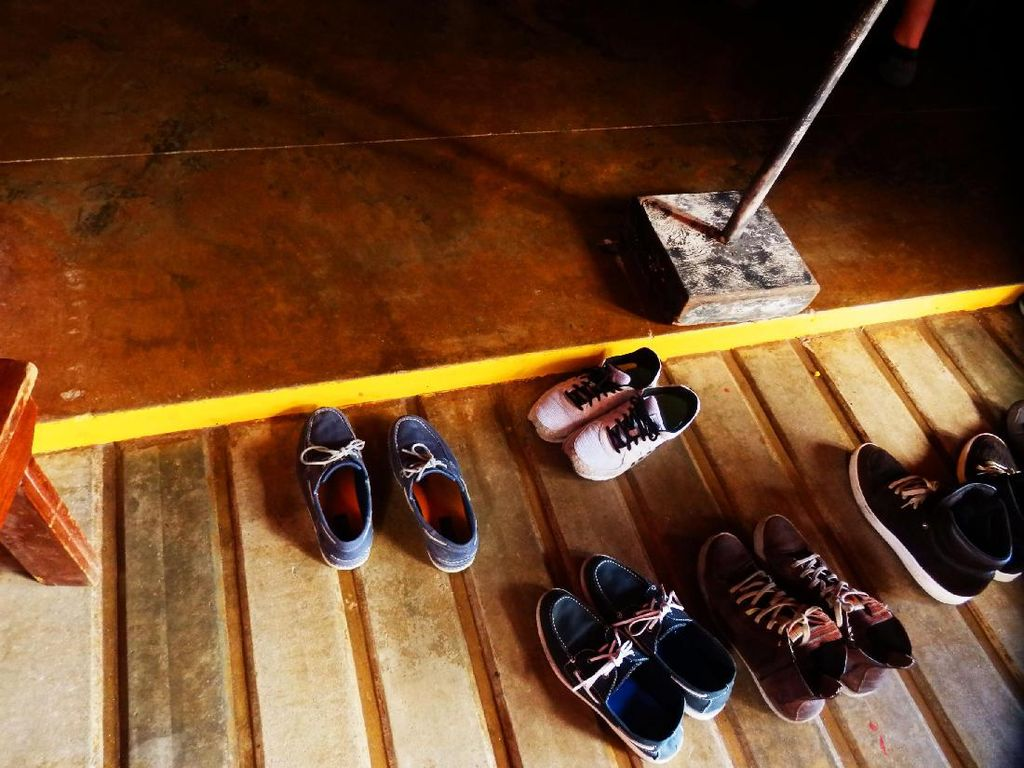sepatu: (509, 545, 737, 757), (698, 511, 910, 719), (273, 392, 491, 587), (835, 412, 1024, 612), (521, 353, 713, 480)
